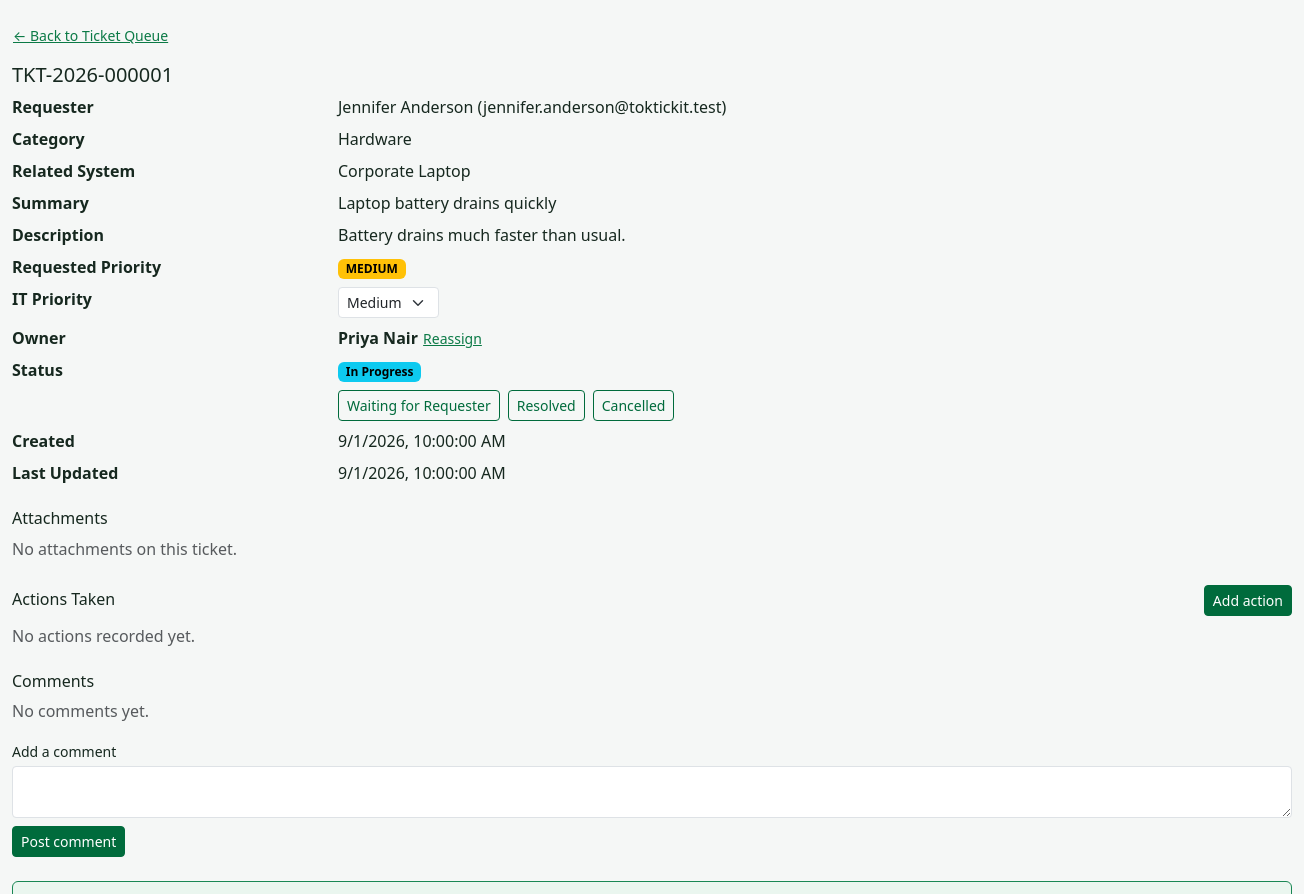
Test: TicketWorkflow: status buttons › UI-09: confirm step › Cancel closes the confirm step and sends nothing
The image size is (1304, 894).
expect the heading "TKT-2026-000001" is shown: met, box [12, 61, 173, 88]
Click the button "Resolved" at {"x": 546, "y": 406}, box [508, 390, 585, 421]
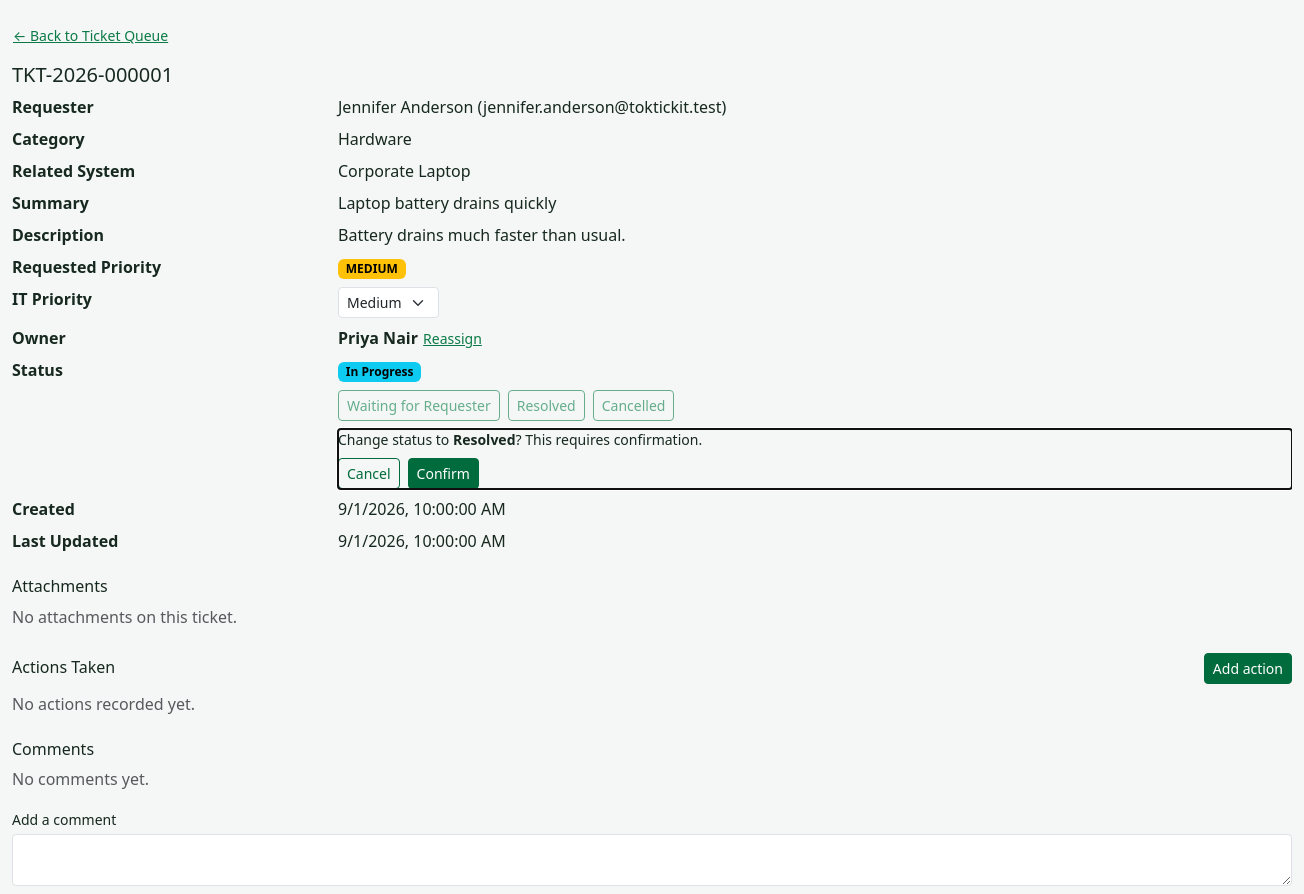
expect the text "Change status to Resolved? This requires confirmation." is shown: met, box [338, 430, 702, 449]
Click the button "Cancel" at {"x": 369, "y": 474}, box [338, 458, 400, 489]
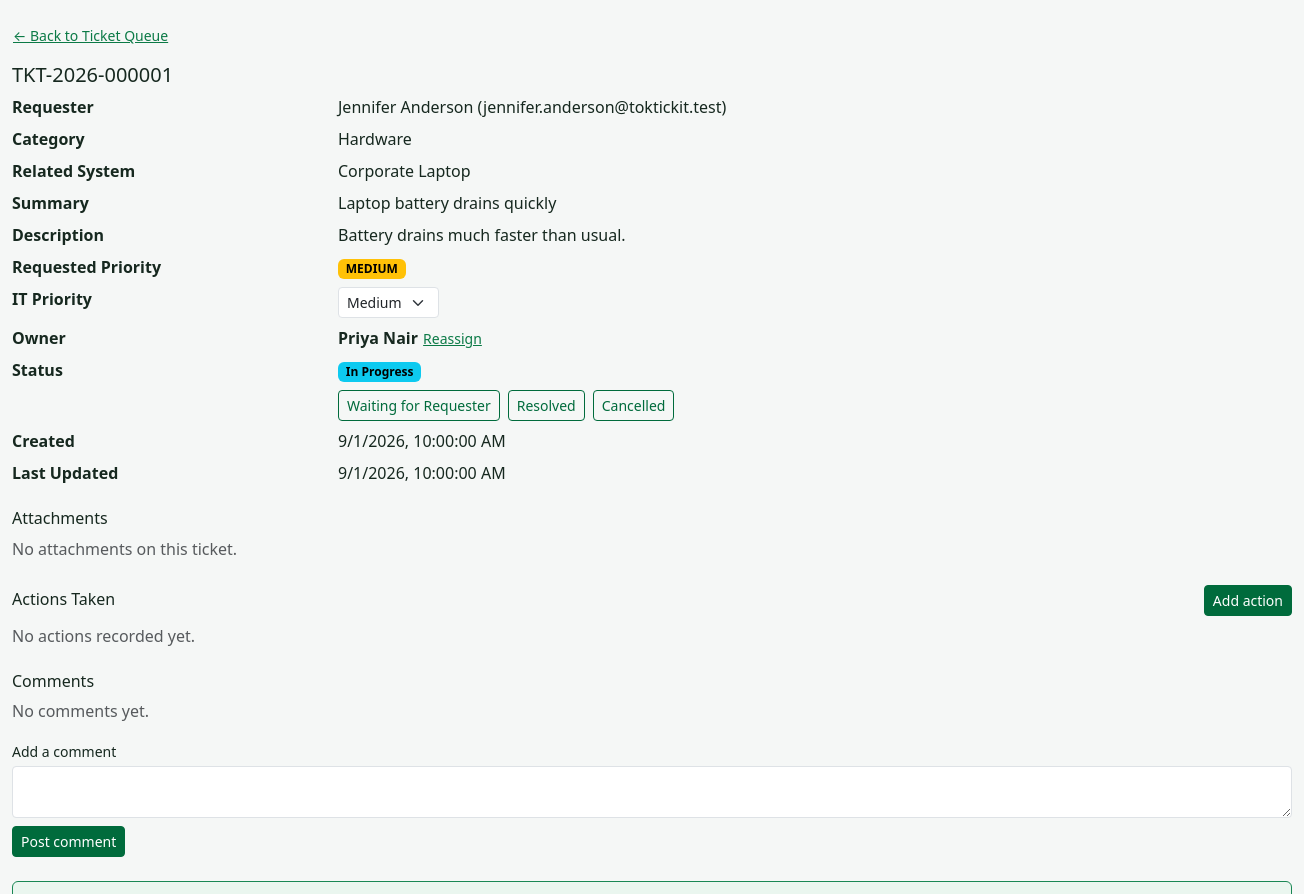
expect the text "requires confirmation" is gone: met
expect the button "Resolved" is enabled: met, box [508, 390, 585, 421]
